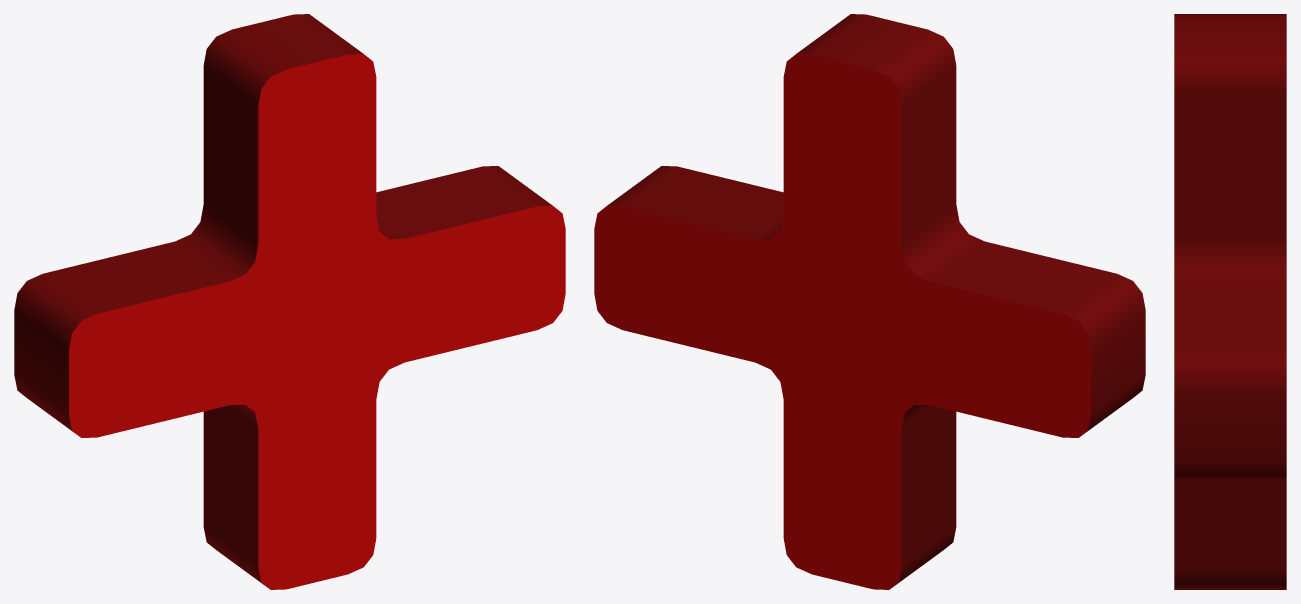
The model's file is Heal_01.FBX.
3 views of the same model, side by side, from view 1: azimuth 30°, elevation 25°; view 2: azimuth 150°, elevation 25°; view 3: azimuth 270°, elevation 25° (orthographic). The views are drawn at different scales.
Visible parts, largest first — view 1: Heal_01; view 2: Heal_01; view 3: Heal_01.
Part boxes in pixels (box(x1,y1,x2,y2)): Heal_01: box(14, 14, 565, 589); Heal_01: box(594, 14, 1145, 589); Heal_01: box(1174, 14, 1286, 589).
Size of the model in its own units: 52.5 by 52.5 by 10.
